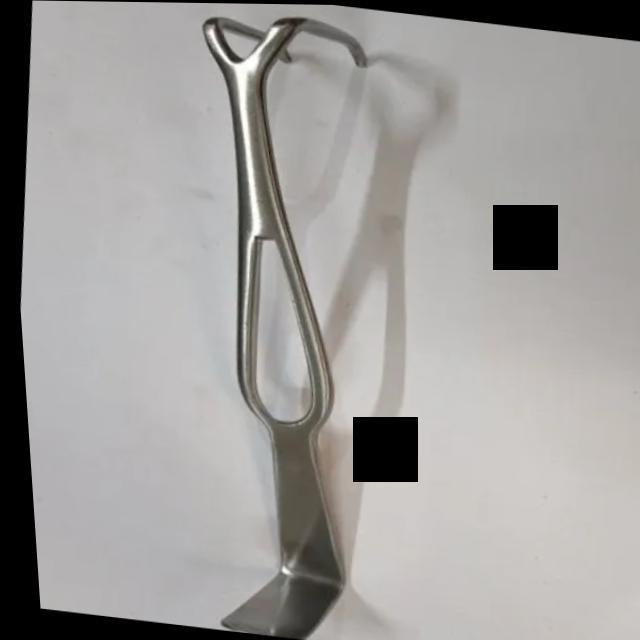Czerny Retractor: (124, 1, 408, 640)
